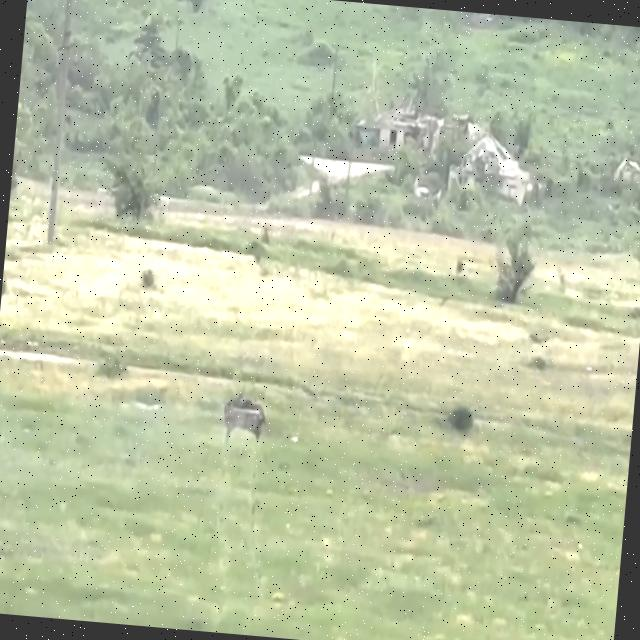AIFV: (220, 389, 270, 442)
